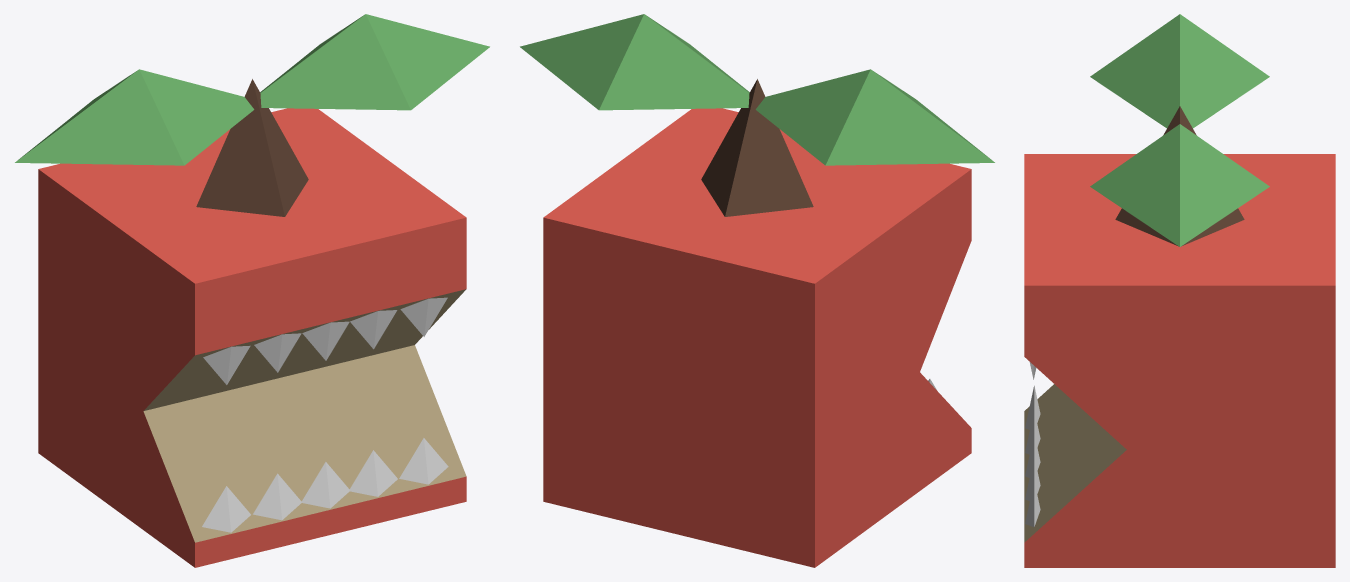
The model's file is helingo.fbx.
3 views of the same model, side by side, from view 1: azimuth 30°, elevation 25°; view 2: azimuth 150°, elevation 25°; view 3: azimuth 270°, elevation 25° (orthographic).
Parts seen in each view (by area): view 1: pasted__pasted__group2_pasted__pasted__pPyramid3; view 2: pasted__pasted__group2_pasted__pasted__pPyramid3; view 3: pasted__pasted__group2_pasted__pasted__pPyramid3.
Part boxes in pixels (box(x1,y1,x2,y2)): pasted__pasted__group2_pasted__pasted__pPyramid3: box(15, 14, 489, 567); pasted__pasted__group2_pasted__pasted__pPyramid3: box(520, 14, 994, 567); pasted__pasted__group2_pasted__pasted__pPyramid3: box(1024, 14, 1335, 567).
Bounding box in the file's own units: 2.63 × 2.3 × 1.5.
